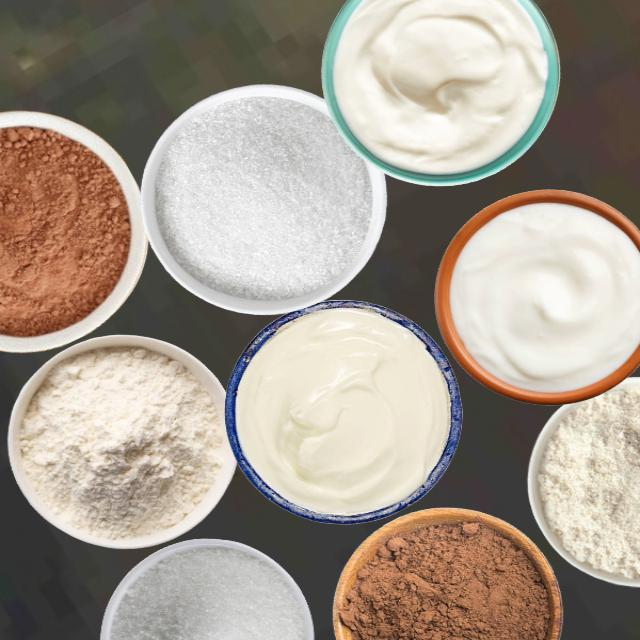Cocoa: (331, 498, 556, 640), (0, 123, 131, 337)
Flour: (17, 346, 223, 540), (537, 383, 639, 580)
Sugar: (154, 94, 372, 300), (98, 531, 301, 640)
